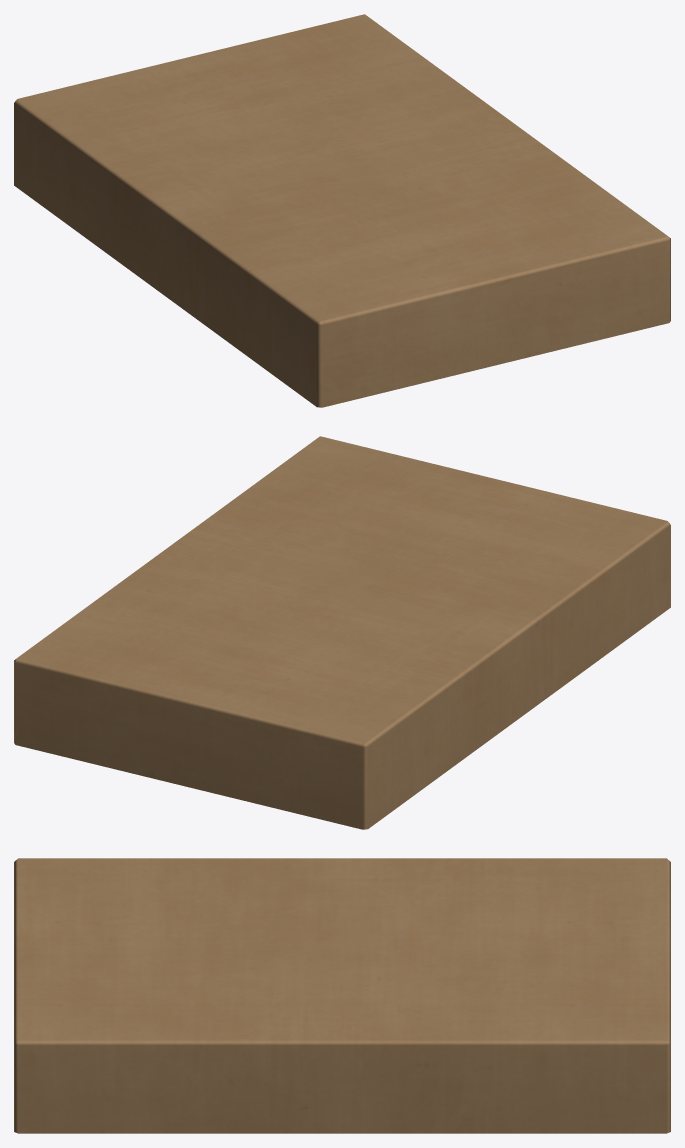
File: SM_CardboardBox_01_Lid.fbx
The picture shows the model from 3 angles, top to bottom: view 1: azimuth 30°, elevation 25°; view 2: azimuth 150°, elevation 25°; view 3: azimuth 270°, elevation 25°; orthographic projection. The views are drawn at different scales.
Visible parts, largest first — view 1: SM_CardboardBox_01_Lid_LOD0; view 2: SM_CardboardBox_01_Lid_LOD0; view 3: SM_CardboardBox_01_Lid_LOD0.
Boxes of the visible parts, left/top/right/bottom form: SM_CardboardBox_01_Lid_LOD0: left=14, top=14, right=670, bottom=407; SM_CardboardBox_01_Lid_LOD0: left=14, top=436, right=670, bottom=829; SM_CardboardBox_01_Lid_LOD0: left=14, top=858, right=670, bottom=1133.
Bounding box in the file's own units: 21.36 × 32.04 × 4.94.
